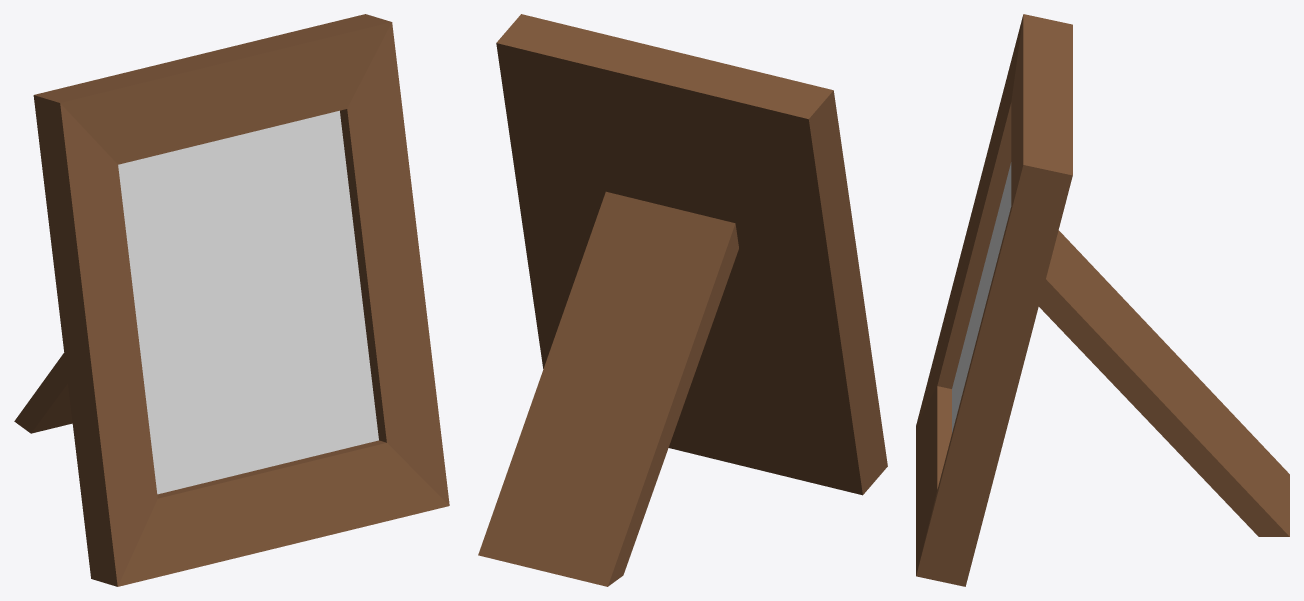
File: Marco portarretrato.fbx
The picture shows the model from 3 angles, left to right: view 1: azimuth 30°, elevation 25°; view 2: azimuth 150°, elevation 25°; view 3: azimuth 270°, elevation 25°; orthographic projection. The views are drawn at different scales.
Parts seen in each view (by area): view 1: Marco base.003; view 2: Marco base.003; view 3: Marco base.003.
Boxes of the visible parts, box(x1,y1,x2,y2) form: Marco base.003: box(14, 14, 449, 586); Marco base.003: box(478, 14, 887, 586); Marco base.003: box(916, 14, 1289, 586).
Bounding box in the file's own units: 15.13 × 19.73 × 15.84.
